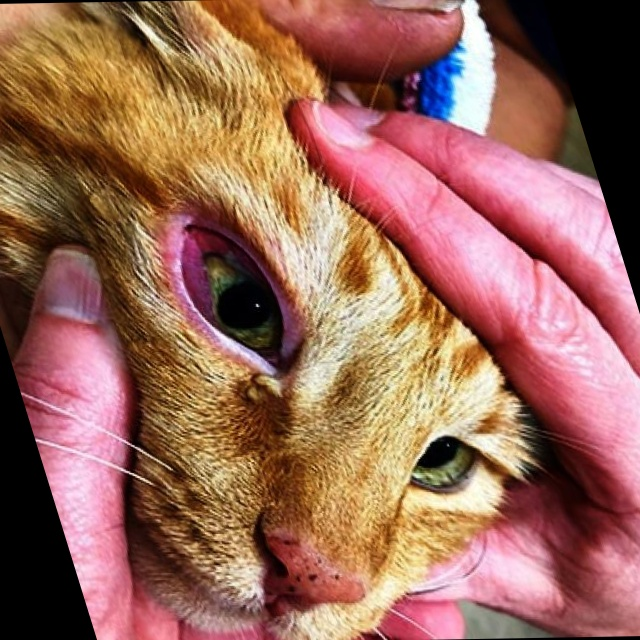eye_infection: (164, 213, 316, 369)
